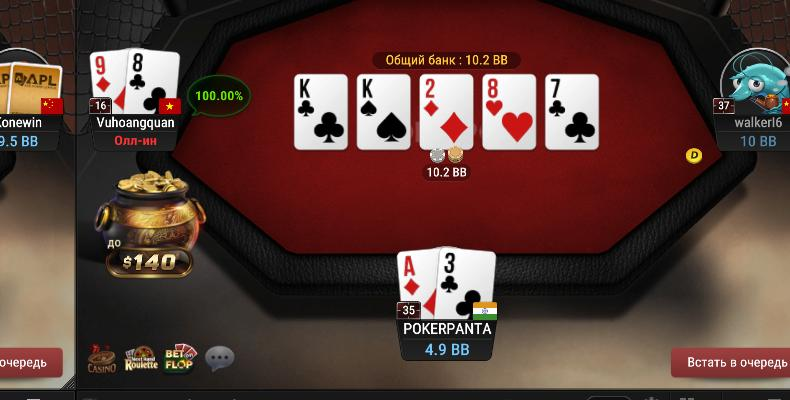2d: (421, 74, 474, 150)
3c: (437, 247, 496, 321)
7c: (546, 74, 598, 149)
8c: (126, 47, 178, 113)
8h: (483, 75, 536, 150)
9d: (91, 50, 127, 113)
Ac: (396, 249, 438, 321)
Kc: (296, 74, 346, 149)
Ks: (358, 74, 410, 149)
